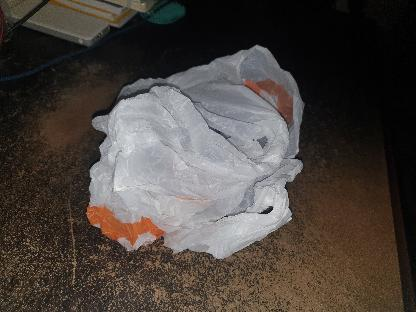Plastic Bag: (87, 43, 304, 262)
